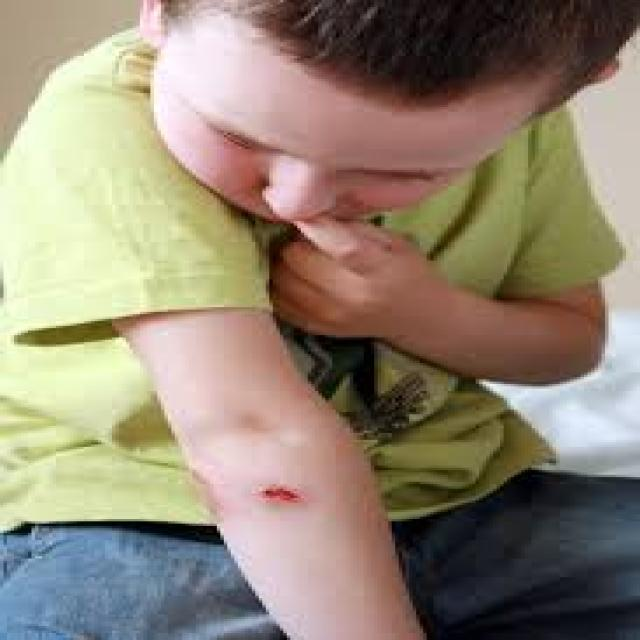Cut: (253, 476, 310, 511)
